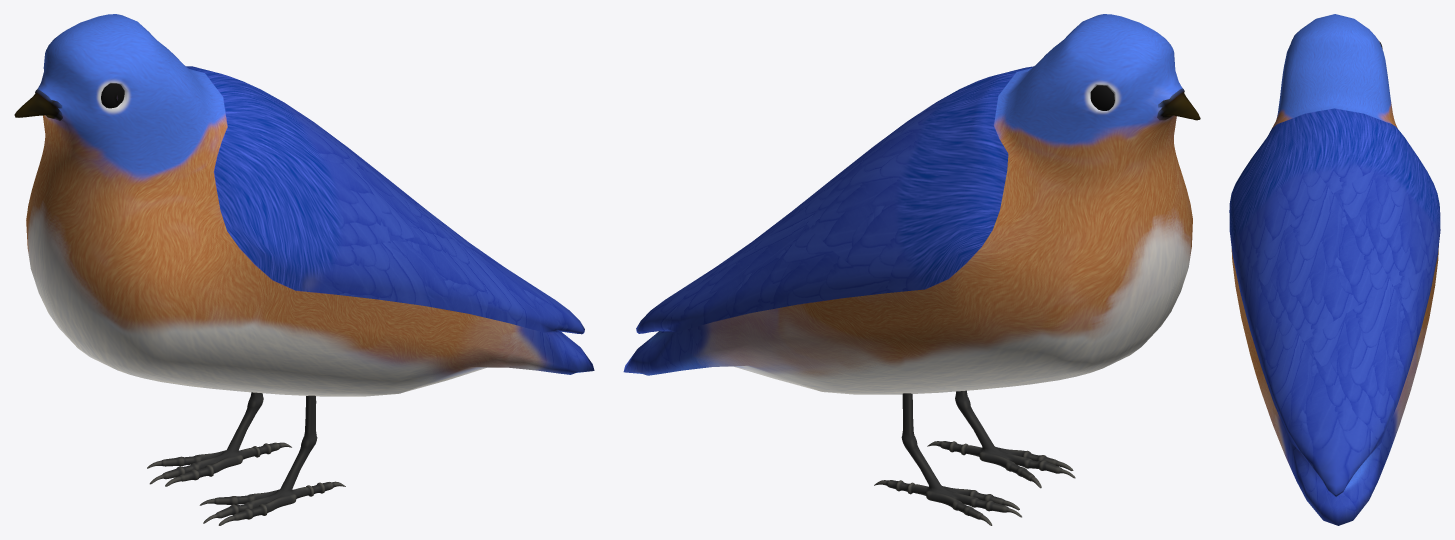
Rendered from azulejo.glb.
The picture shows the model from 3 angles, left to right: view 1: azimuth 30°, elevation 25°; view 2: azimuth 150°, elevation 25°; view 3: azimuth 270°, elevation 25°; orthographic projection. The views are drawn at different scales.
Visible parts, largest first — view 1: BlueBird; view 2: BlueBird; view 3: BlueBird.
Boxes of the visible parts, bbox=[...] form: BlueBird: bbox=[14, 14, 594, 525]; BlueBird: bbox=[623, 14, 1200, 525]; BlueBird: bbox=[1229, 14, 1440, 525].
Size of the model in its own units: 1.96 by 1.61 by 0.8594.
1 material, 1 textured.
